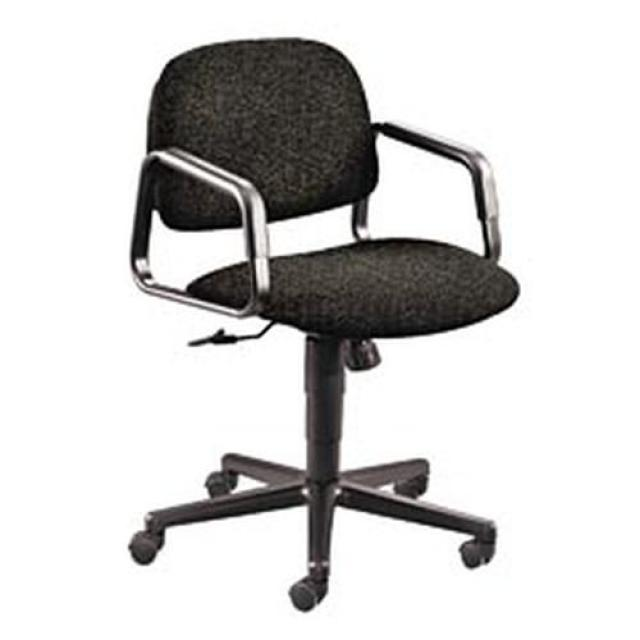swivelchair: (131, 38, 520, 614)
